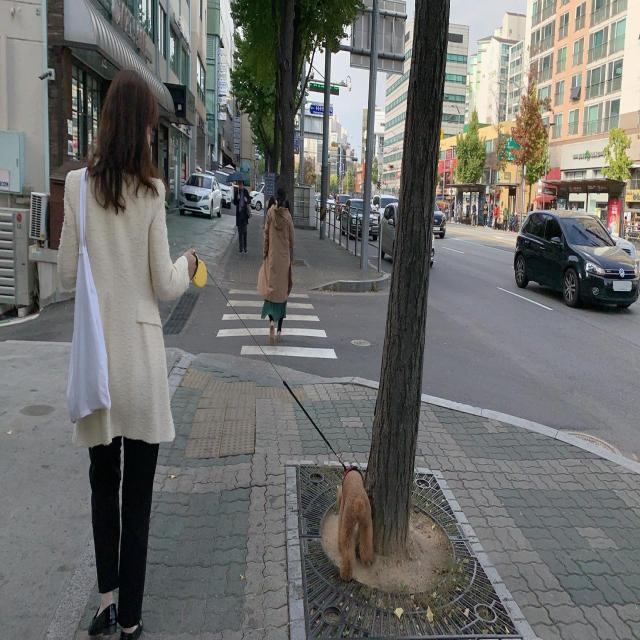횡단보도: (215, 287, 338, 361)
